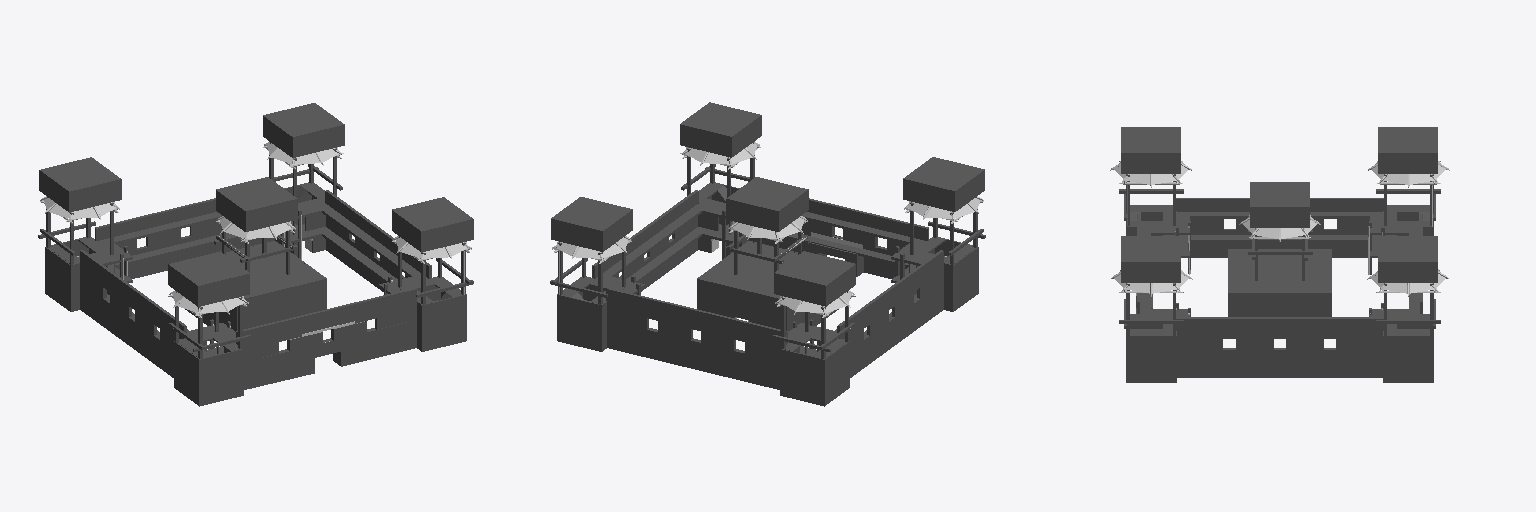
Rendered from Fort.obj.
3 views of the same model, side by side, from view 1: azimuth 30°, elevation 25°; view 2: azimuth 150°, elevation 25°; view 3: azimuth 270°, elevation 25° (orthographic).
Visible parts, largest first — view 1: Collision299, Fort_Mud1500, Fort_Logs1500; view 2: Collision299, Fort_Mud1500, Fort_Logs1500; view 3: Collision299, Fort_Mud1500, Fort_Logs1500.
Part boxes in pixels (x1,y1,x2,y2): Collision299: (38, 103, 473, 406); Fort_Mud1500: (44, 143, 466, 339); Fort_Logs1500: (42, 142, 469, 339); Collision299: (550, 102, 985, 406); Fort_Mud1500: (557, 143, 979, 312); Fort_Logs1500: (554, 142, 981, 328); Collision299: (1119, 127, 1440, 382); Fort_Mud1500: (1114, 161, 1445, 293); Fort_Logs1500: (1112, 162, 1447, 316).
Bounding box in the file's own units: 25.88 × 10.36 × 25.89.